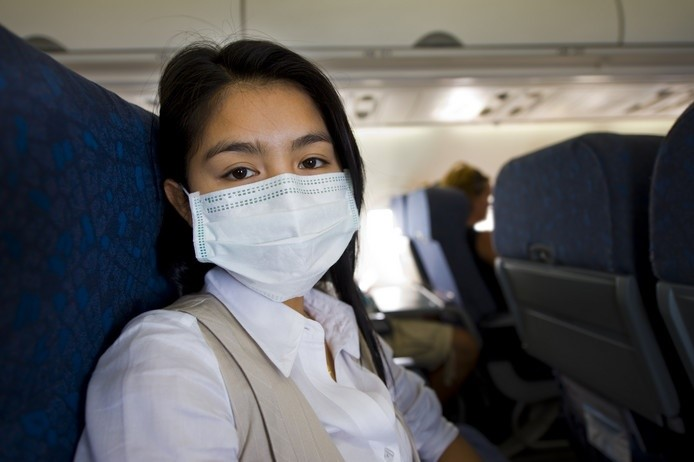face_with_mask: (157, 70, 371, 311)
